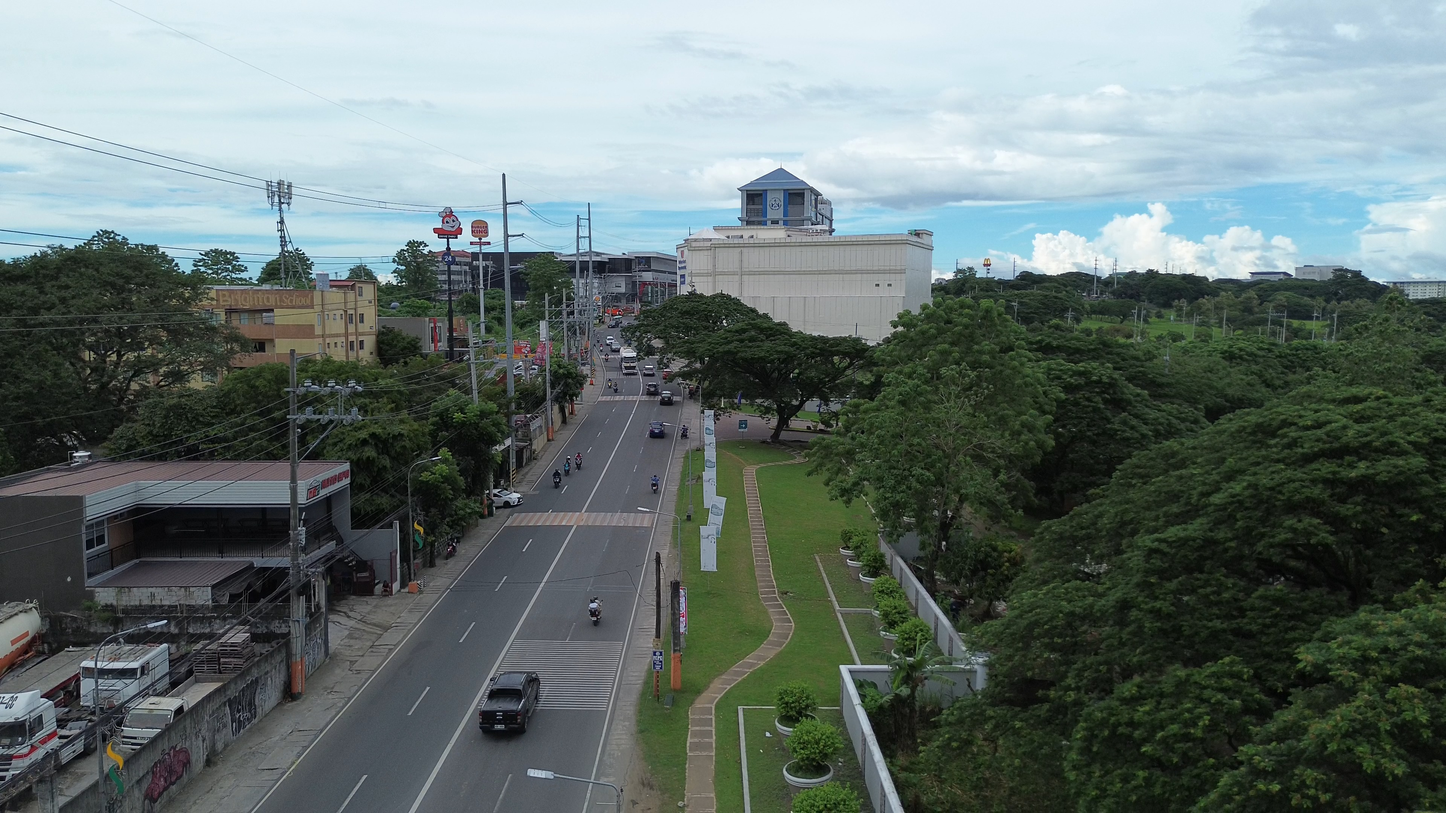car: (489, 488, 522, 506), (648, 421, 665, 438), (645, 382, 659, 395)
motorcycle: (588, 597, 601, 626), (444, 538, 458, 559), (552, 470, 561, 488), (651, 475, 659, 493), (575, 453, 582, 470), (563, 459, 570, 476), (680, 425, 688, 438)
vehicle: (0, 691, 85, 784), (80, 645, 169, 708), (479, 671, 540, 732), (120, 696, 186, 750), (0, 602, 41, 674), (619, 347, 638, 375), (659, 390, 674, 405), (552, 470, 562, 488), (661, 367, 673, 381), (642, 364, 656, 376), (574, 453, 583, 471), (680, 425, 689, 438)
